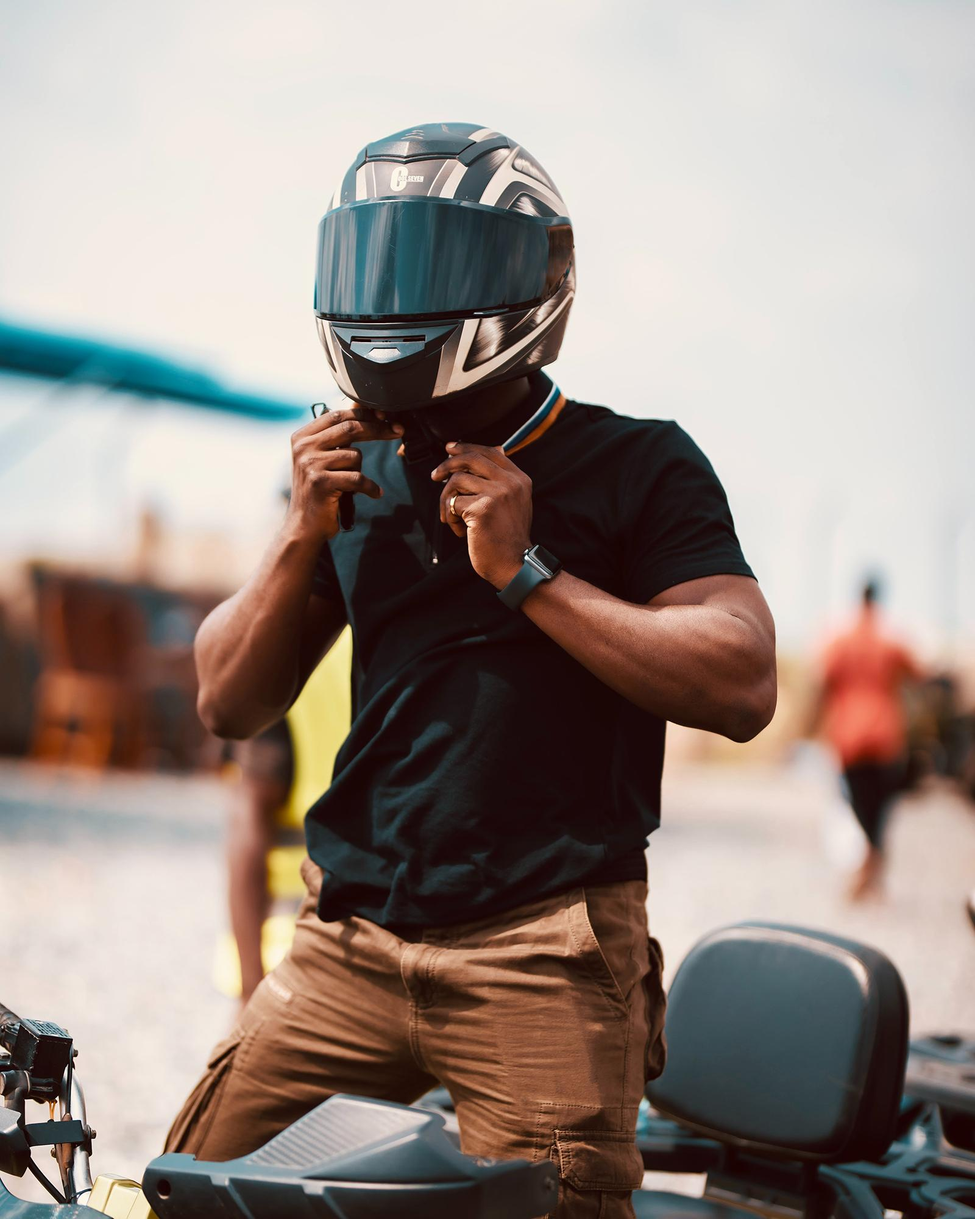helmet: (311, 119, 578, 444)
